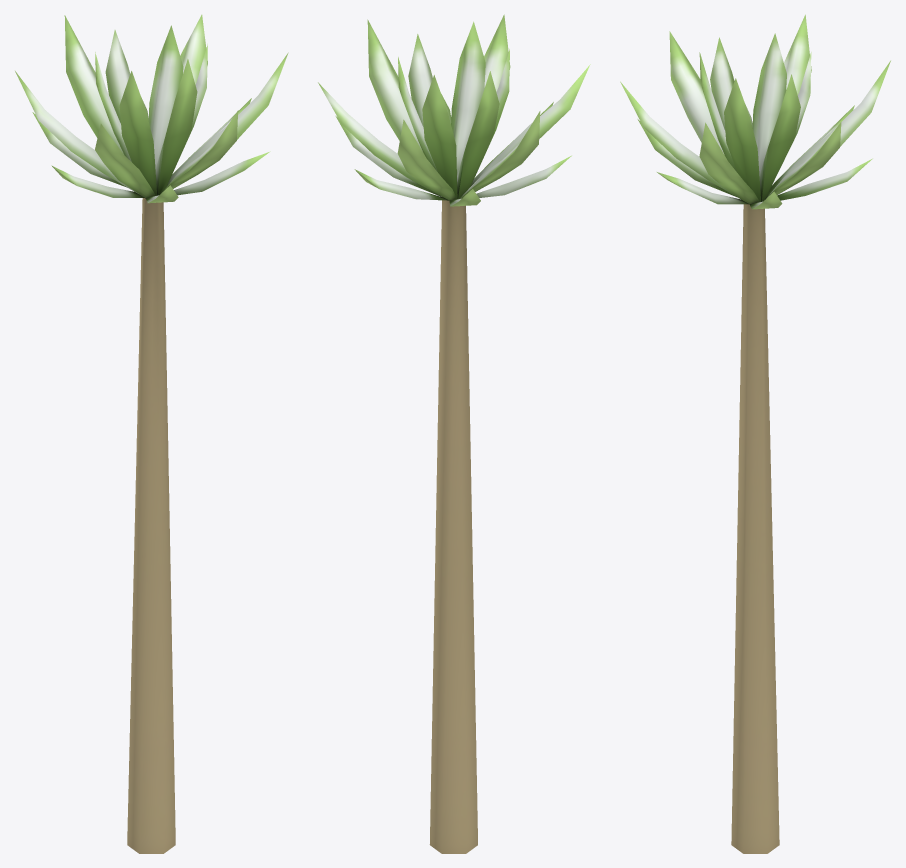
The picture shows the model from 3 angles, left to right: view 1: azimuth 30°, elevation 25°; view 2: azimuth 150°, elevation 25°; view 3: azimuth 270°, elevation 25°; orthographic projection.
Visible parts, largest first — view 1: wPalm2; view 2: wPalm2; view 3: wPalm2.
Boxes of the visible parts, box(x1,y1,x2,y2) form: wPalm2: box(15, 14, 288, 853); wPalm2: box(318, 14, 590, 853); wPalm2: box(620, 14, 890, 853).
Size of the model in its own units: 5.83 by 20.02 by 6.19.
1 material, 1 textured.
